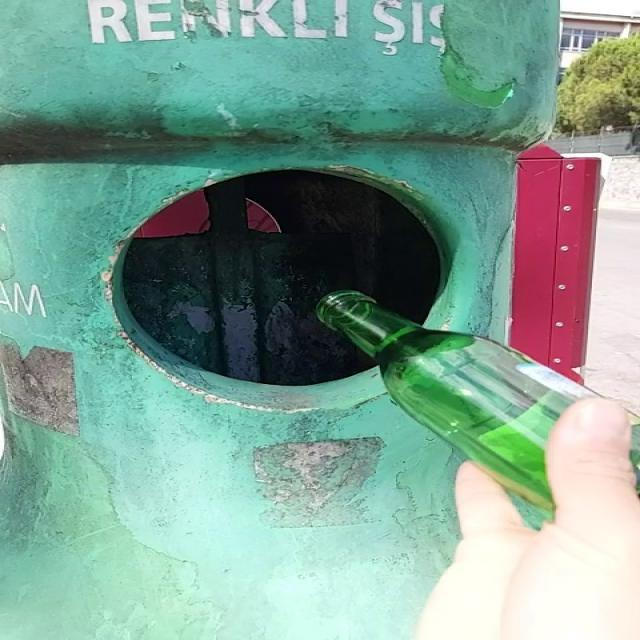Glass: (316, 291, 595, 512)
